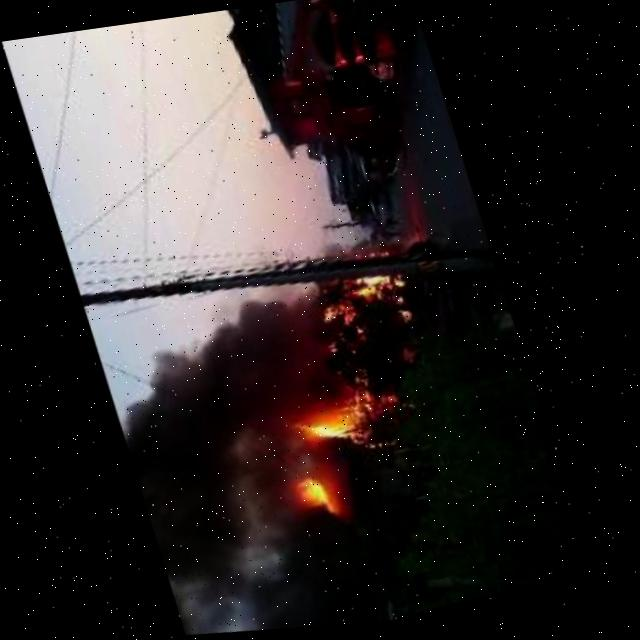fire: (289, 385, 386, 459), (347, 269, 413, 321), (300, 477, 342, 527), (321, 302, 361, 337)
